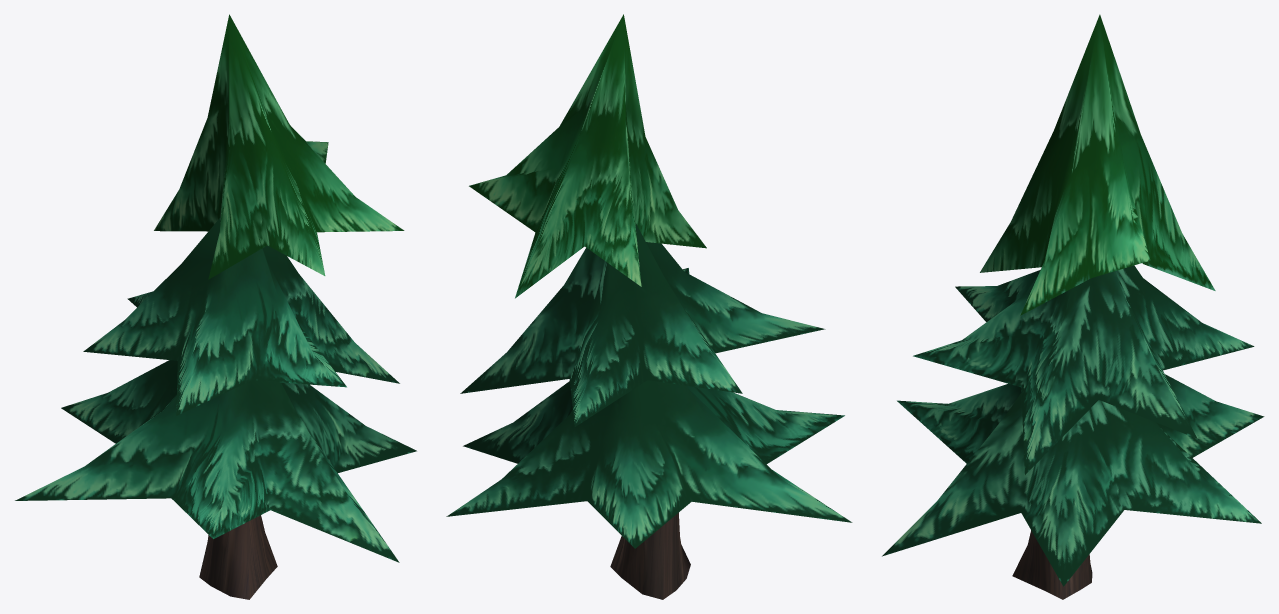
File: Nspruce_1_2.fbx
The picture shows the model from 3 angles, left to right: view 1: azimuth 30°, elevation 25°; view 2: azimuth 150°, elevation 25°; view 3: azimuth 270°, elevation 25°; orthographic projection. The views are drawn at different scales.
Parts seen in each view (by area): view 1: Nspruce_1_2; view 2: Nspruce_1_2; view 3: Nspruce_1_2.
Boxes of the visible parts, x1,y1,x2,y2 form: Nspruce_1_2: (15, 14, 416, 599); Nspruce_1_2: (446, 14, 852, 599); Nspruce_1_2: (882, 14, 1264, 599).
Bounding box in the file's own units: 105 × 143 × 85.94.
